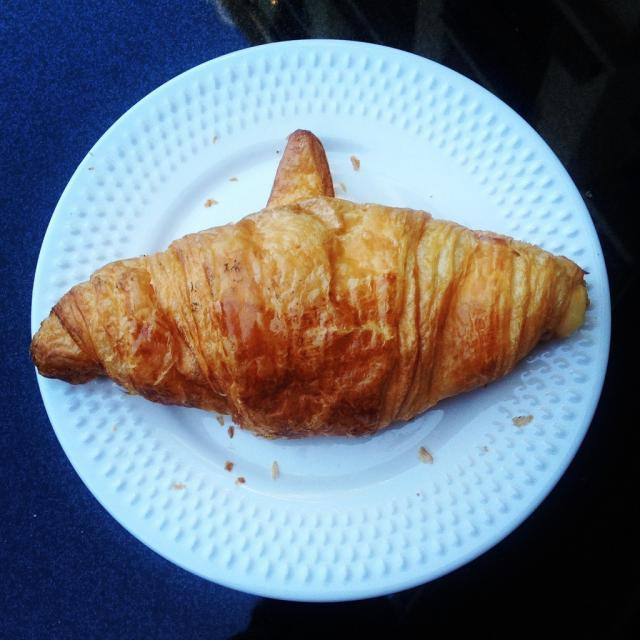Croissant: (29, 144, 603, 452)
